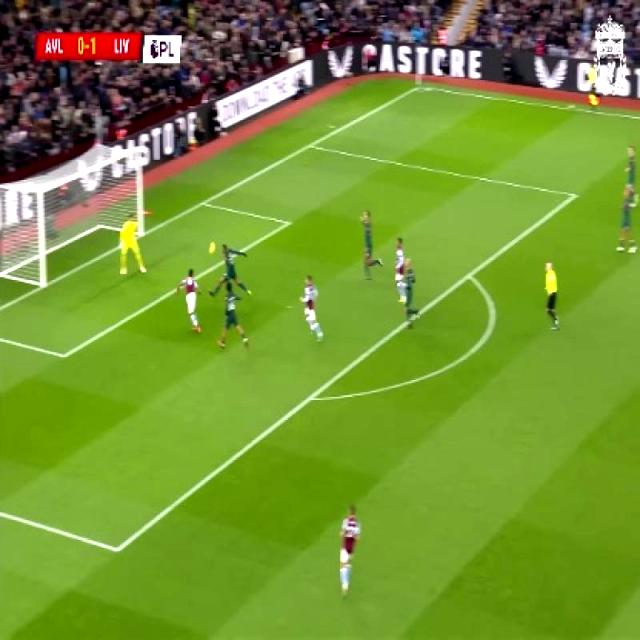bigarea_bottom_inner: (104, 528, 130, 569)
bigarea_top_inner: (565, 182, 583, 208)
bigarea_top_outter: (300, 132, 320, 158)
bottom_arc_area_intersection: (297, 380, 323, 414)
corner: (409, 76, 431, 94)
smallarea_bottom_inner: (51, 338, 77, 372)
smallarea_top_inner: (277, 209, 297, 236)
smallarea_top_outter: (191, 190, 214, 217)
top_arc_area_intersection: (460, 264, 477, 286)
